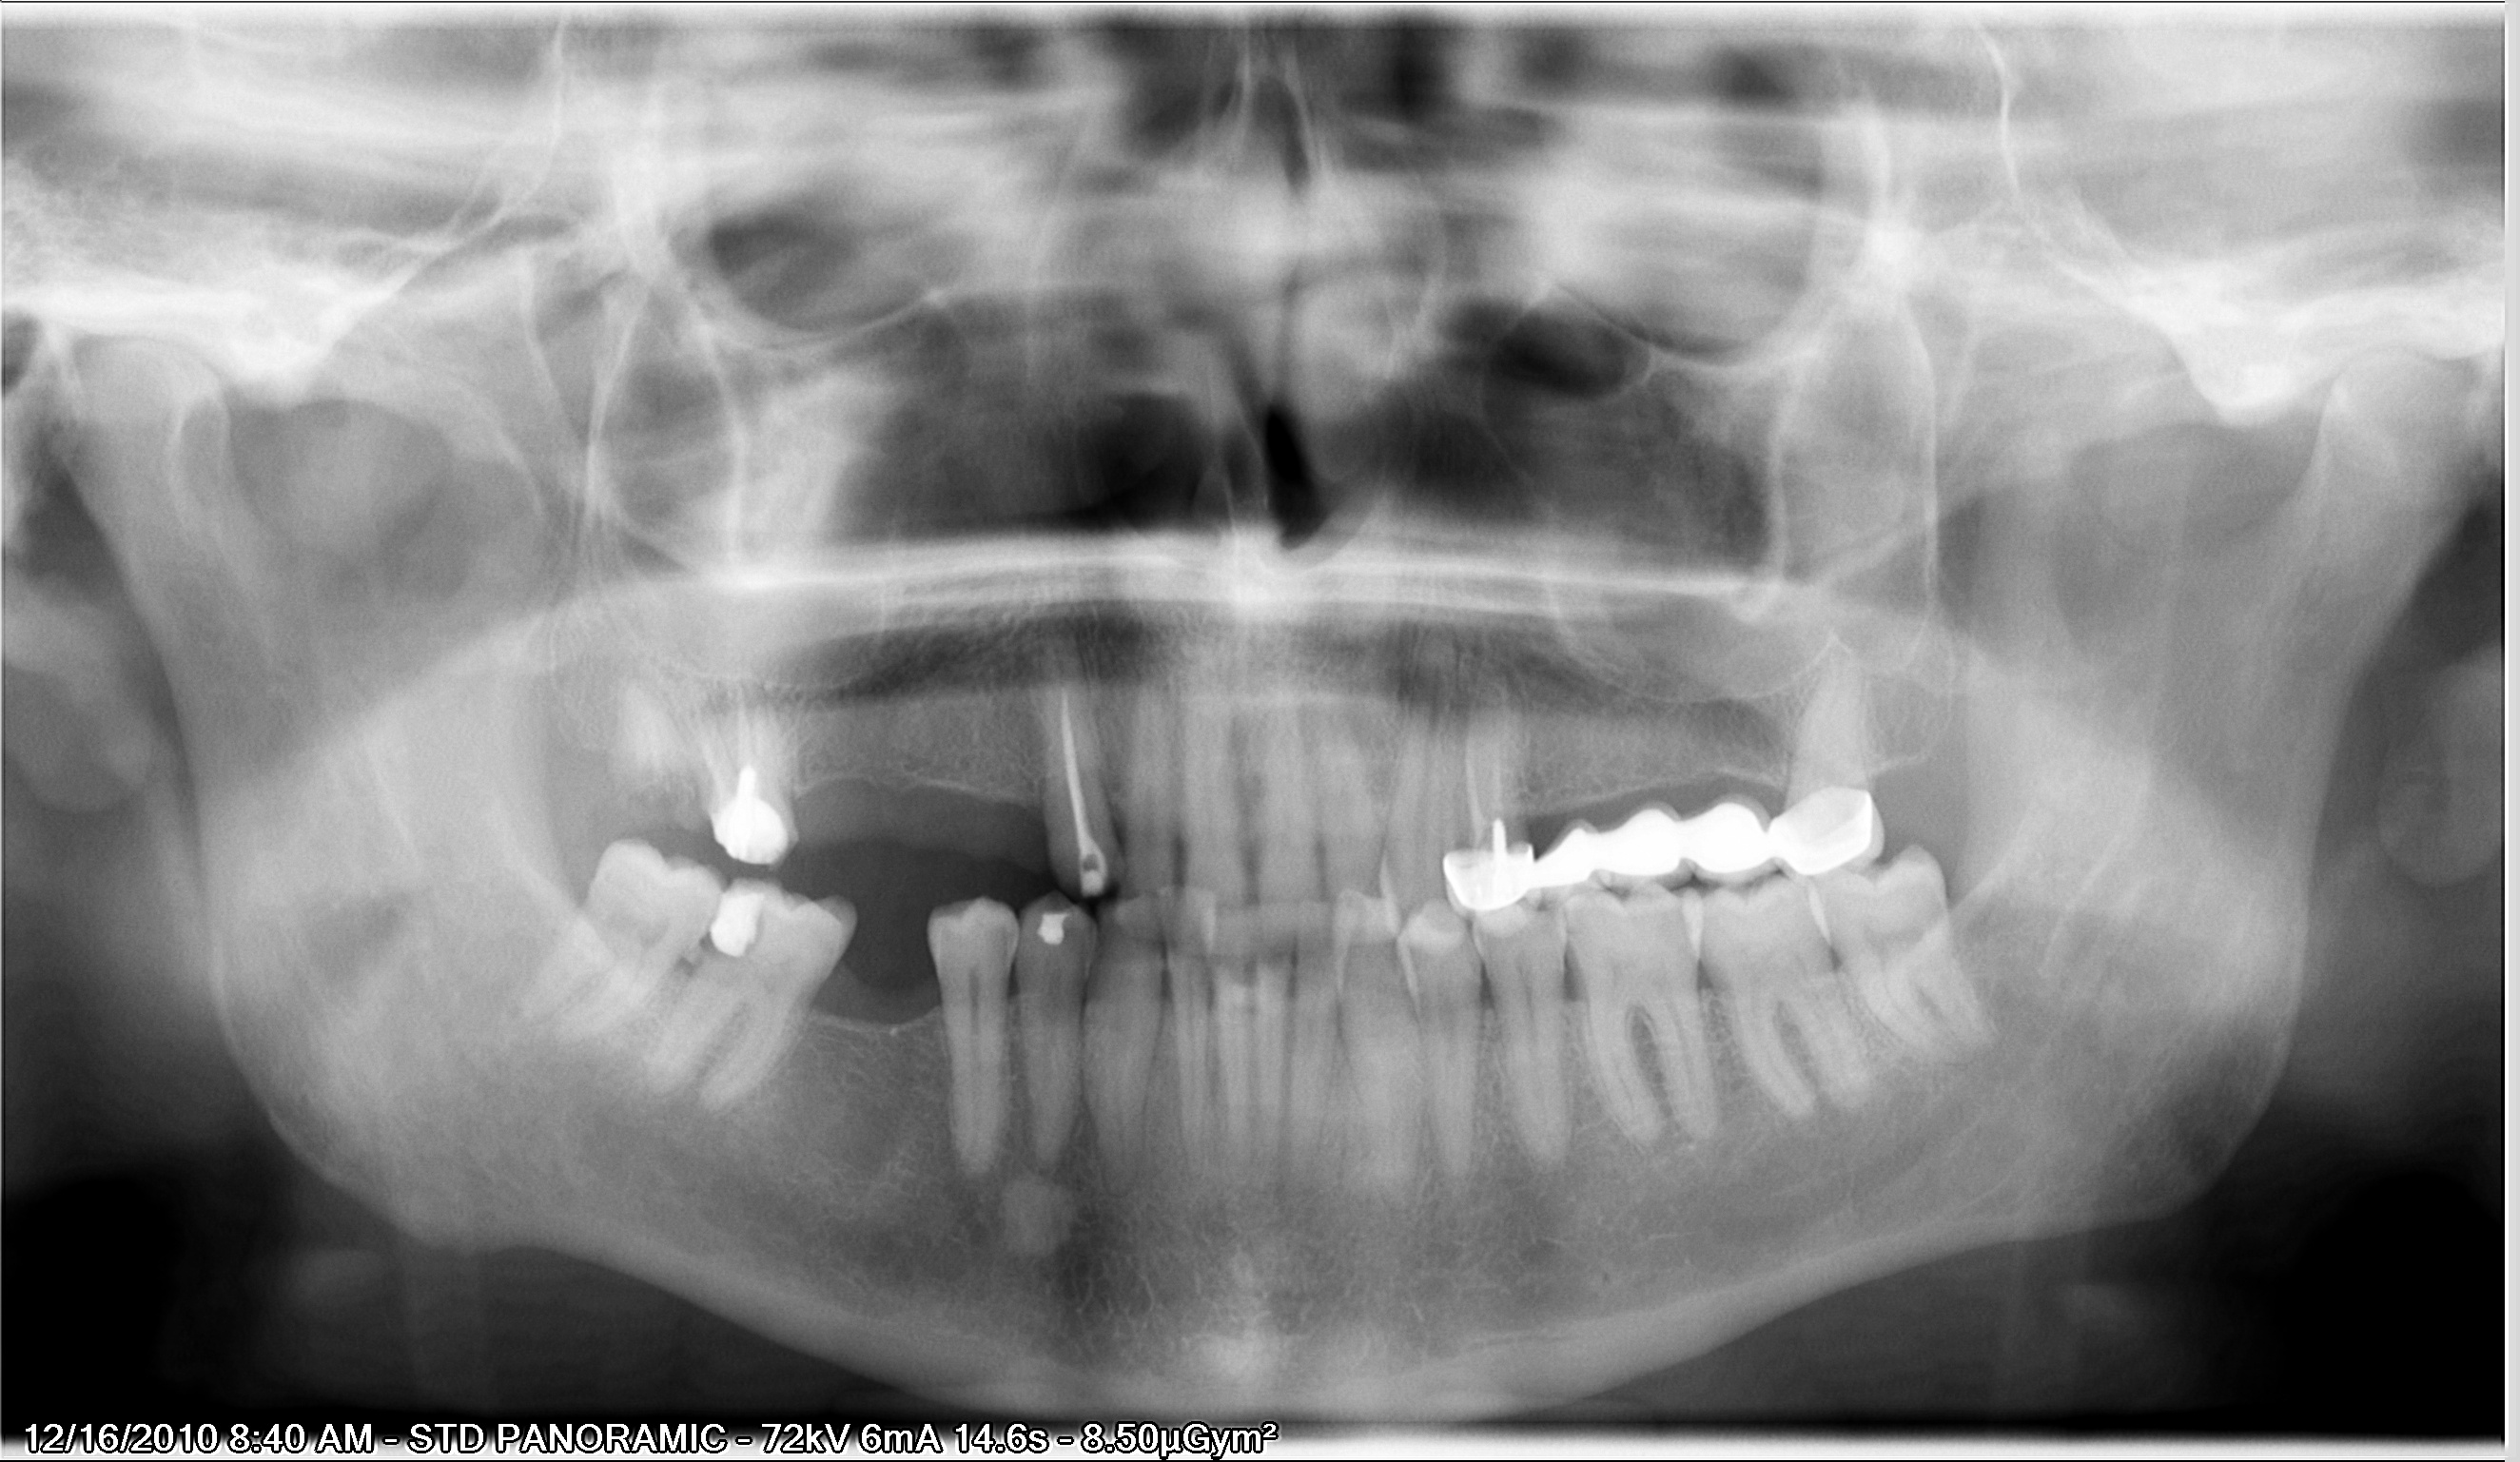CAR: (303, 426, 1049, 1425)
END: (677, 247, 2212, 1084), (484, 202, 1594, 1090), (284, 252, 1072, 1044)
OBT: (494, 425, 1570, 1382), (498, 400, 1624, 1311), (308, 392, 1086, 1359), (298, 329, 1107, 1215)
PRR: (466, 298, 2376, 1250)
ROT: (223, 249, 942, 1058)
